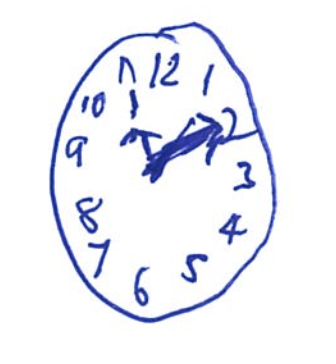1: (202, 62, 215, 99)
10: (79, 91, 108, 119)
2: (219, 107, 261, 142)
3: (232, 160, 257, 193)
4: (219, 211, 248, 248)
5: (180, 251, 210, 284)
6: (130, 263, 150, 309)
7: (87, 237, 113, 280)
8: (74, 195, 105, 235)
9: (64, 135, 88, 168)
contour: (46, 20, 280, 325)
hand: (119, 113, 225, 182)
top_left_arrow: (121, 125, 162, 169)
top_right_arrow: (151, 112, 222, 176)
